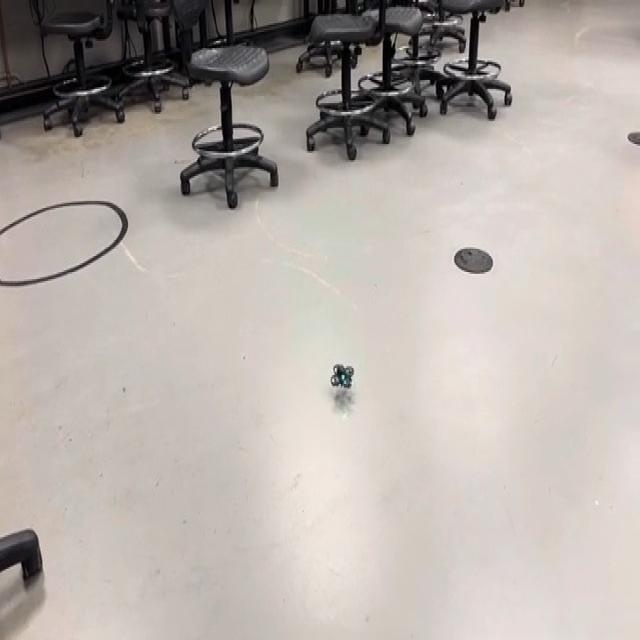drone: (325, 349, 360, 398)
